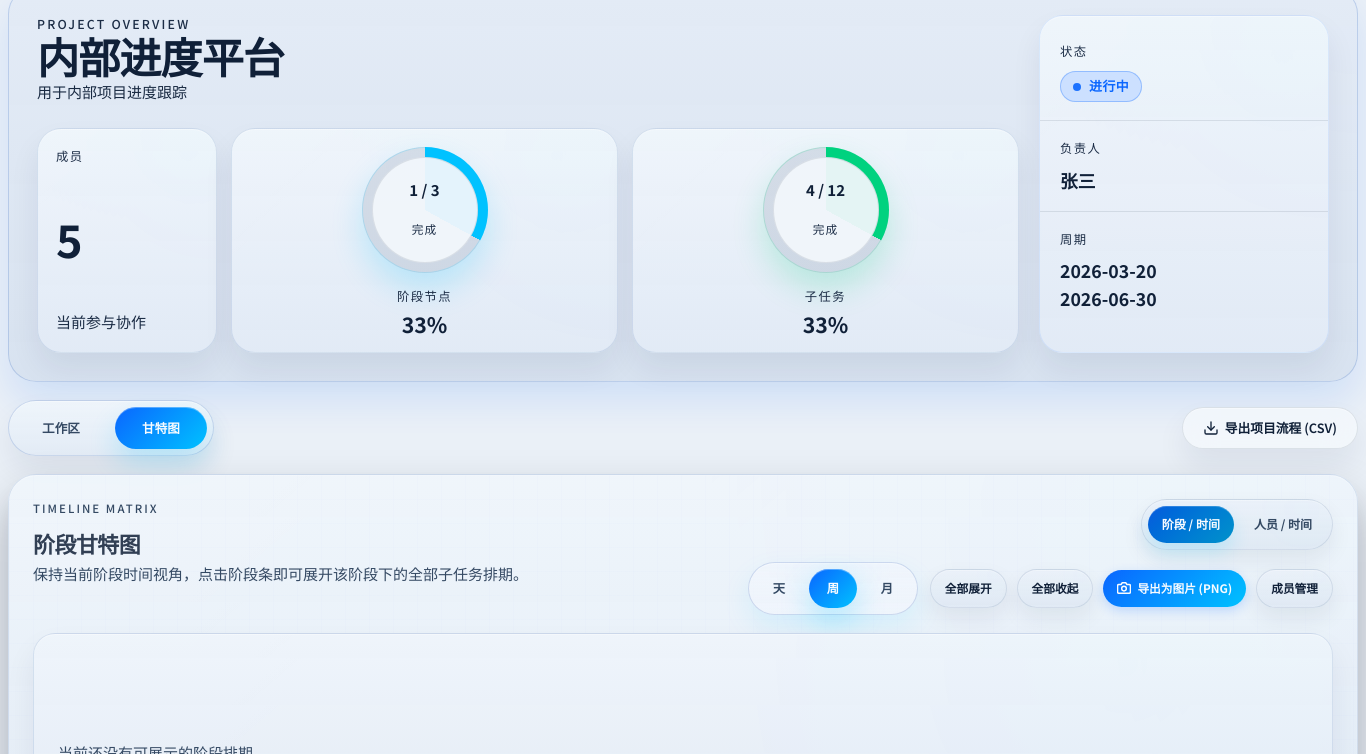
ProjectDetailView › loads the project workspace summary and opens a node drawer only after clicking an interactive node
Expected: the heading "内部进度平台" is shown, x1=37 y1=25 x2=284 y2=86
Click the button "工作区" at (61, 428), box x1=15 y1=407 x2=107 y2=449
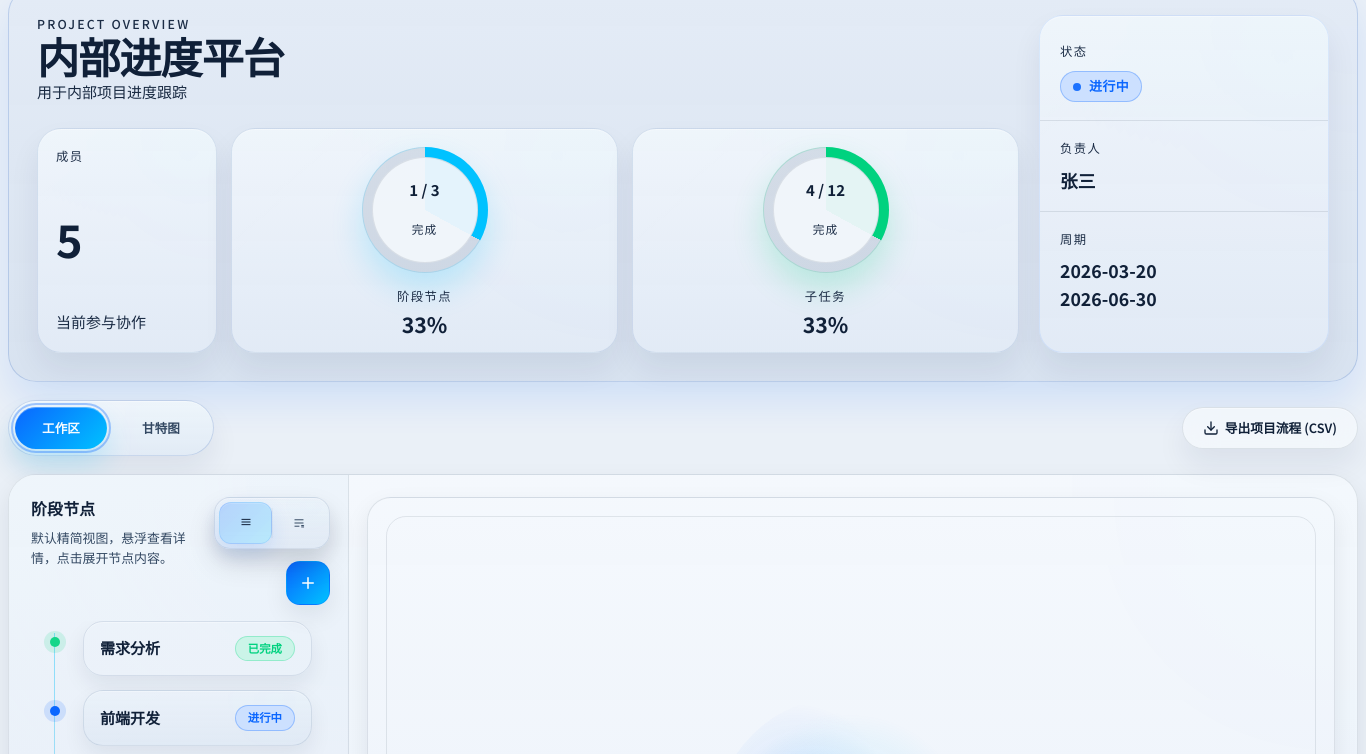
Expected: the text "张三" is shown, x1=1060 y1=167 x2=1095 y2=193
Now the text "需求分析" is shown, box x1=100 y1=637 x2=160 y2=658
Now the text "前端开发" is shown, box x1=100 y1=707 x2=160 y2=728
Click the button with test id "node-item-2002" at (198, 718), box x1=83 y1=690 x2=312 y2=746
(page scrolled)
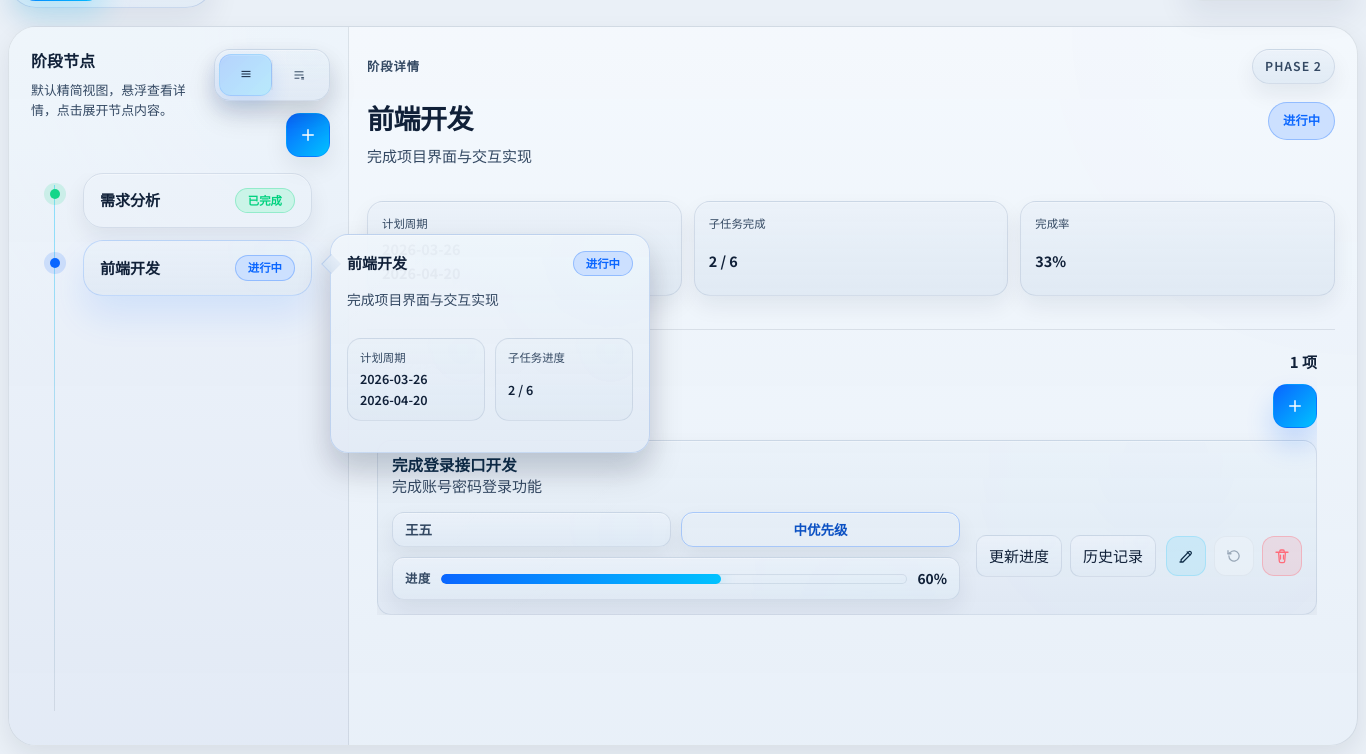
Now the element with test id "node-drawer" is shown
Now the text "完成登录接口开发" is shown, box x1=392 y1=453 x2=517 y2=475
